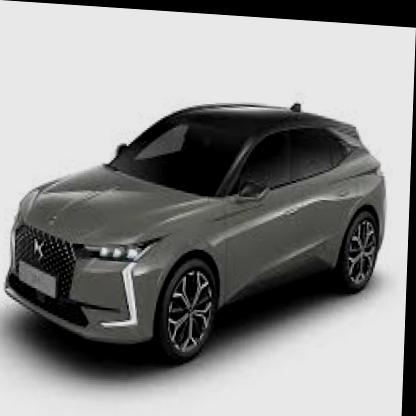Car: (4, 88, 390, 374)
